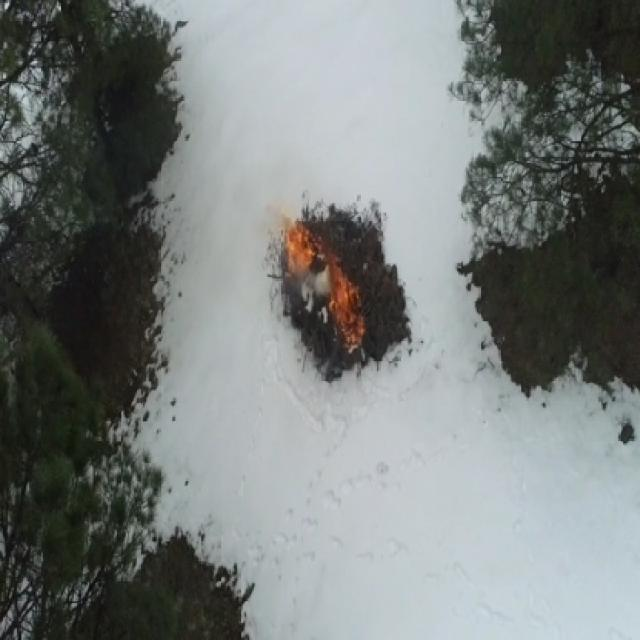Fire: (286, 221, 312, 274), (333, 282, 358, 321), (328, 251, 343, 306), (345, 319, 364, 347), (317, 238, 326, 258)
